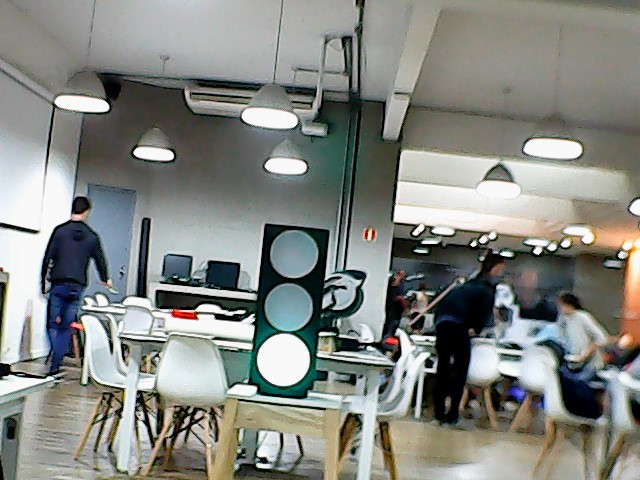verde: (246, 218, 336, 406)
